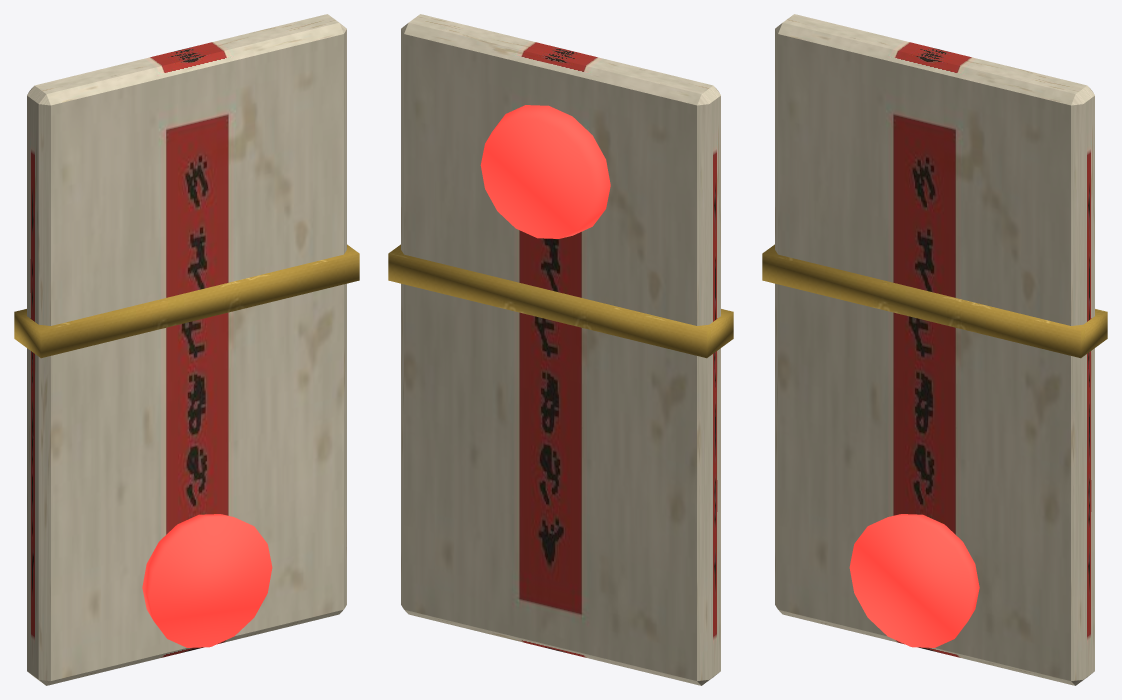
Rendered from letter.glb.
3 views of the same model, side by side, from view 1: azimuth 30°, elevation 25°; view 2: azimuth 150°, elevation 25°; view 3: azimuth 330°, elevation 25° (orthographic).
Visible parts, largest first — view 1: Envelope, WaxSeals, LetterCord; view 2: Envelope, WaxSeals, LetterCord; view 3: Envelope, WaxSeals, LetterCord.
Part boxes in pixels (<box>): Envelope: <box>27,14,346,685</box>; WaxSeals: <box>142,514,272,647</box>; LetterCord: <box>14,244,359,358</box>; Envelope: <box>401,14,720,685</box>; WaxSeals: <box>480,105,610,238</box>; LetterCord: <box>388,244,733,358</box>; Envelope: <box>775,14,1094,685</box>; WaxSeals: <box>849,514,979,647</box>; LetterCord: <box>762,244,1107,358</box>.
Bounding box in the file's own units: 0.124 × 0.22 × 0.032.
3 materials, 2 textured.
